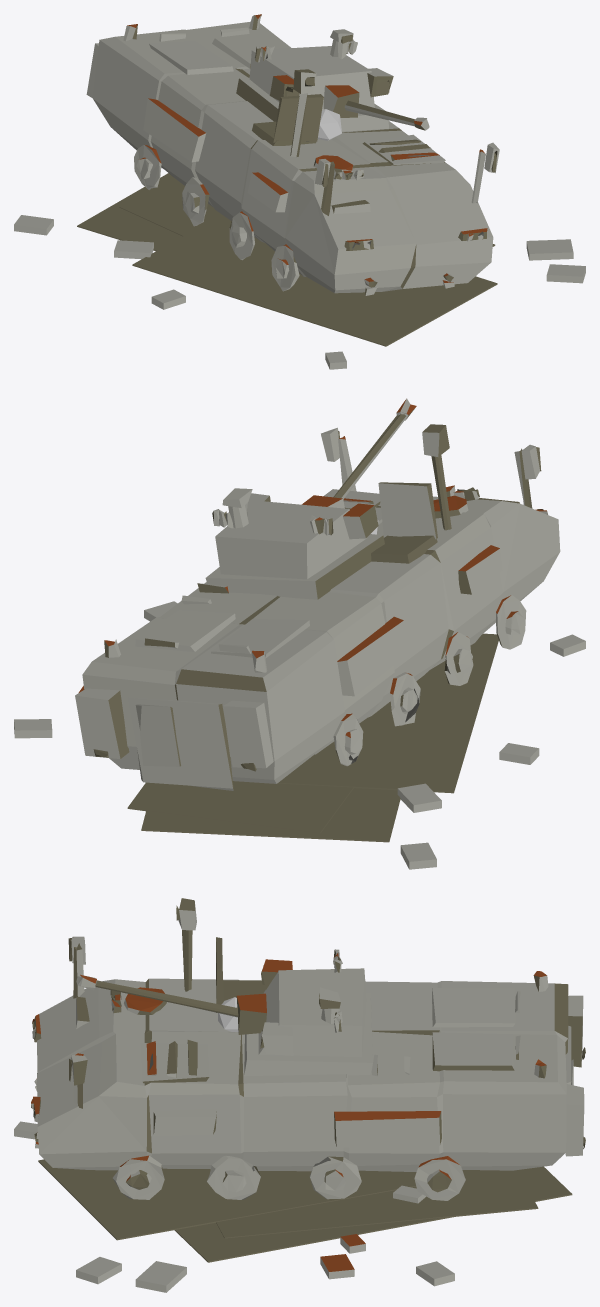
The model's file is SM_RestosDragon_v3_LOD0.fbx.
3 views of the same model, one above another, from view 1: azimuth 30°, elevation 25°; view 2: azimuth 150°, elevation 25°; view 3: azimuth 270°, elevation 25° (orthographic). The views are drawn at different scales.
Visible parts, largest first — view 1: SM_bloques.restos_dragon_v3_LOD0, Humo; view 2: SM_bloques.restos_dragon_v3_LOD0; view 3: SM_bloques.restos_dragon_v3_LOD0.
Part boxes in pixels (bbox=[...]): SM_bloques.restos_dragon_v3_LOD0: bbox=[14, 14, 585, 369]; Humo: bbox=[317, 109, 341, 140]; SM_bloques.restos_dragon_v3_LOD0: bbox=[14, 398, 585, 869]; SM_bloques.restos_dragon_v3_LOD0: bbox=[14, 898, 585, 1292].
Bounding box in the file's own units: 7.66 × 4.23 × 8.62.
